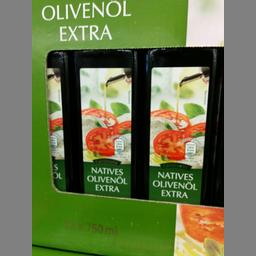oil: (138, 46, 218, 204), (70, 50, 140, 196)
